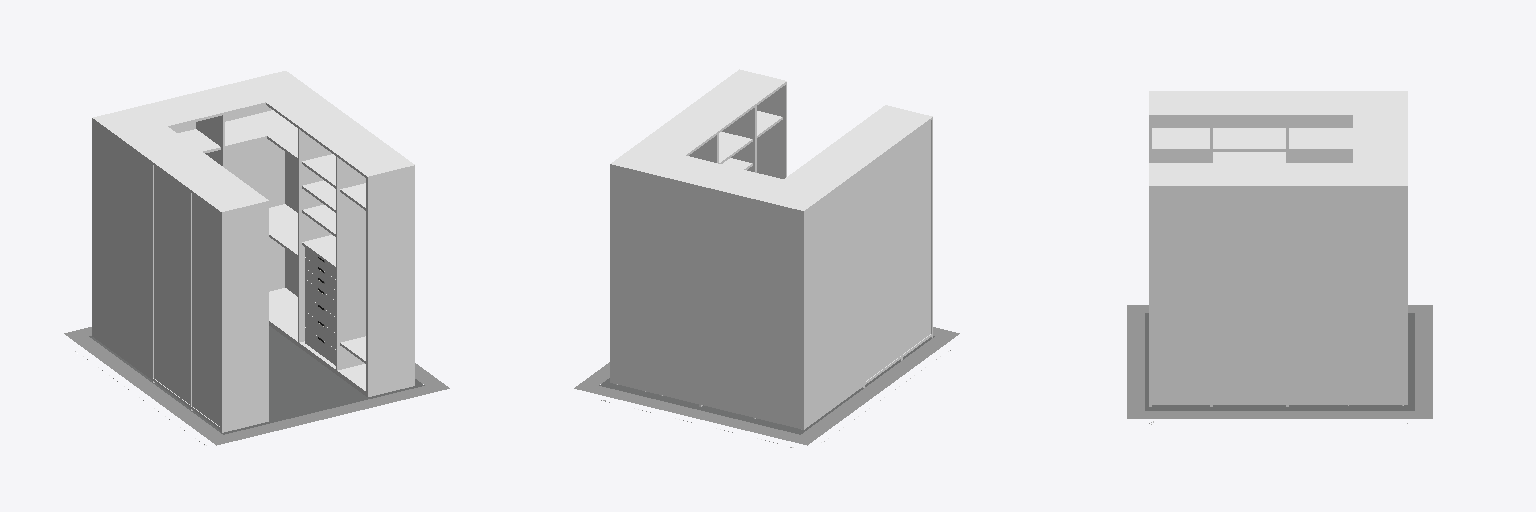
The picture shows the model from 3 angles: view 1: azimuth 30°, elevation 25°; view 2: azimuth 150°, elevation 25°; view 3: azimuth 270°, elevation 25°; orthographic projection.
Visible parts, largest first — view 1: Mesh9 Model, Mesh15 Model, Mesh10 Model, Mesh12 Model, Mesh11 Model; view 2: Mesh9 Model, Mesh15 Model, Mesh10 Model; view 3: Mesh9 Model, Mesh15 Model.
Boxes of the visible parts, box(x1,y1,x2,y2) form: Mesh9 Model: box(89, 71, 424, 434); Mesh15 Model: box(64, 327, 449, 445); Mesh10 Model: box(302, 154, 335, 188); Mesh12 Model: box(302, 180, 335, 212); Mesh11 Model: box(302, 205, 335, 236); Mesh9 Model: box(599, 69, 934, 434); Mesh15 Model: box(574, 327, 959, 445); Mesh10 Model: box(719, 132, 752, 163); Mesh9 Model: box(1145, 91, 1414, 410); Mesh15 Model: box(1127, 305, 1432, 418).
Bounding box in the file's own units: 116 × 109 × 130.